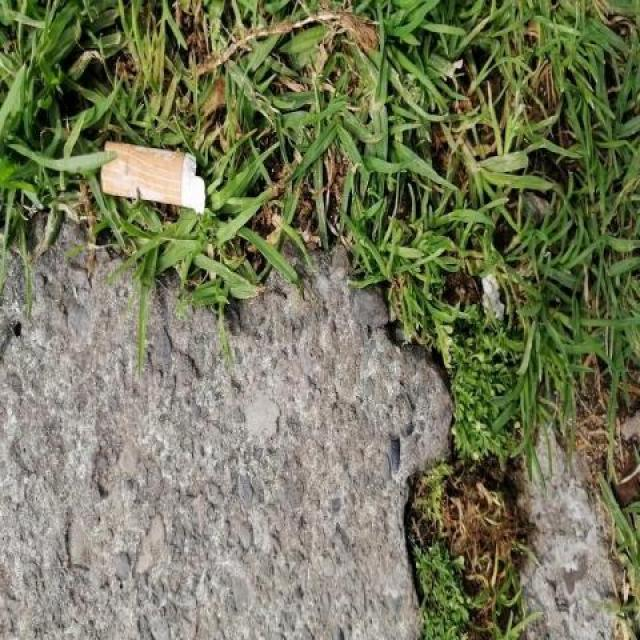non-organic waste: (98, 138, 207, 218)
